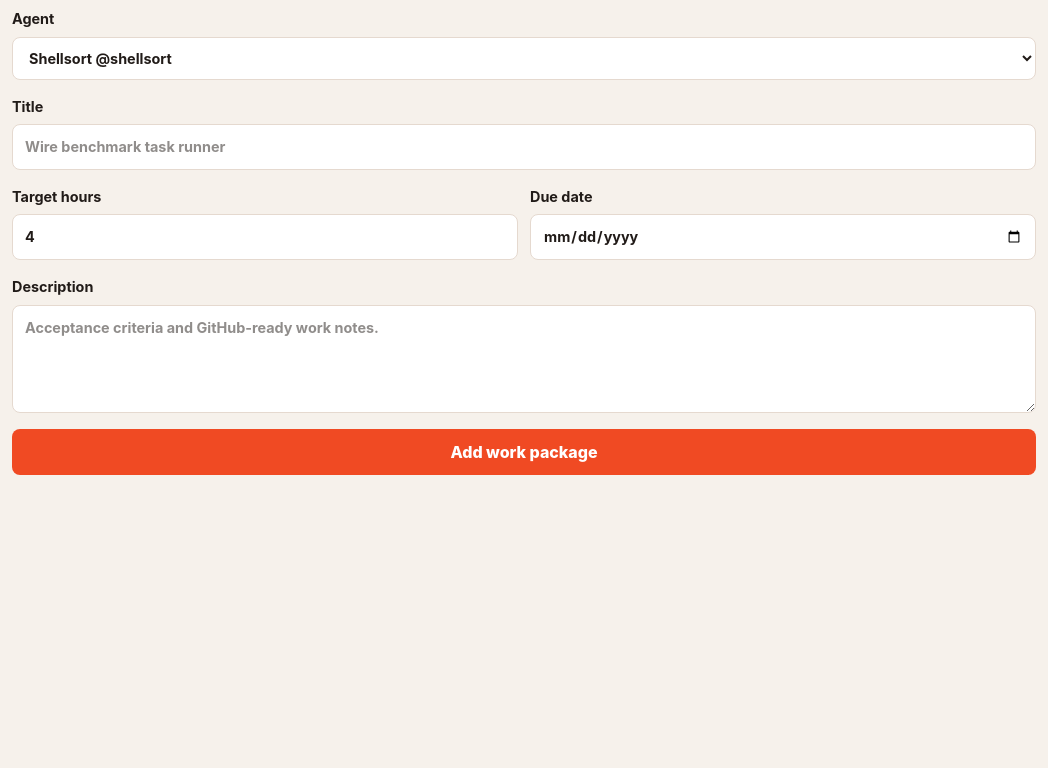
Scenario: MilestoneForm › blocks invalid work packages before invoking the server action
Expected: the dropdown labelled "Agent" is shown, [12,37,1036,80]
Expected: the number field labelled "Target hours" is shown, [12,214,518,260]
Type "Fix" into the field labelled "Title".
click(524, 147); type("Fix")  # box [12,124,1036,170]
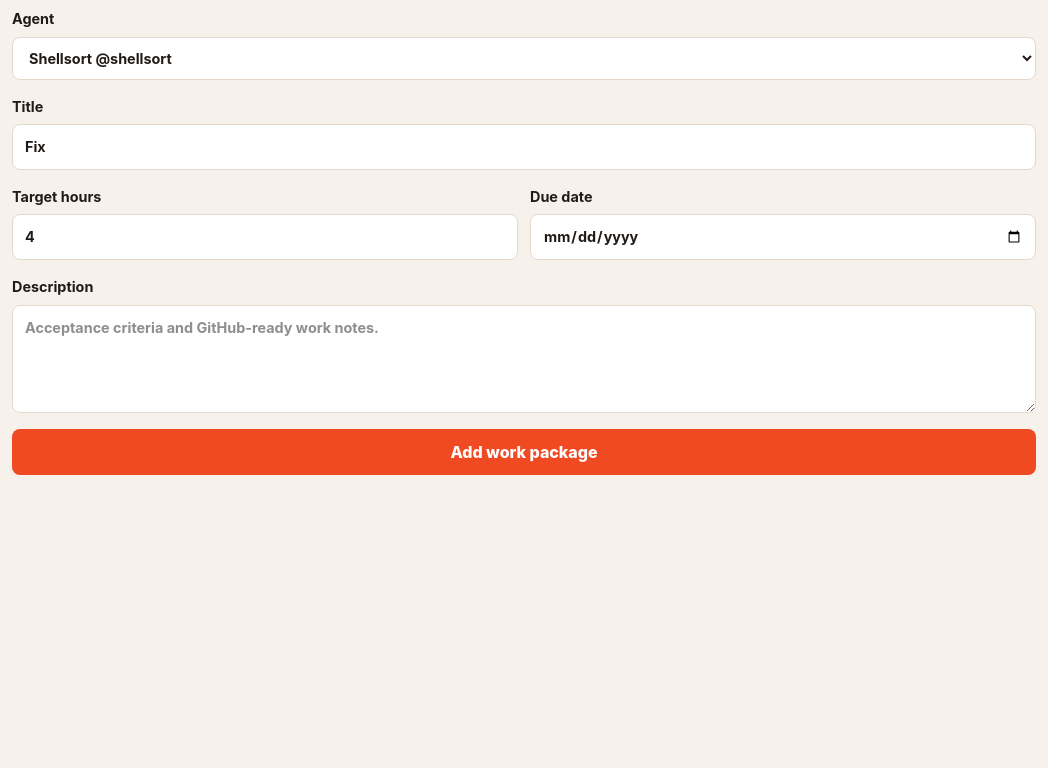
Replace the text in the number field labelled "Target hours" with "0" at (265, 237), box [12,214,518,260]
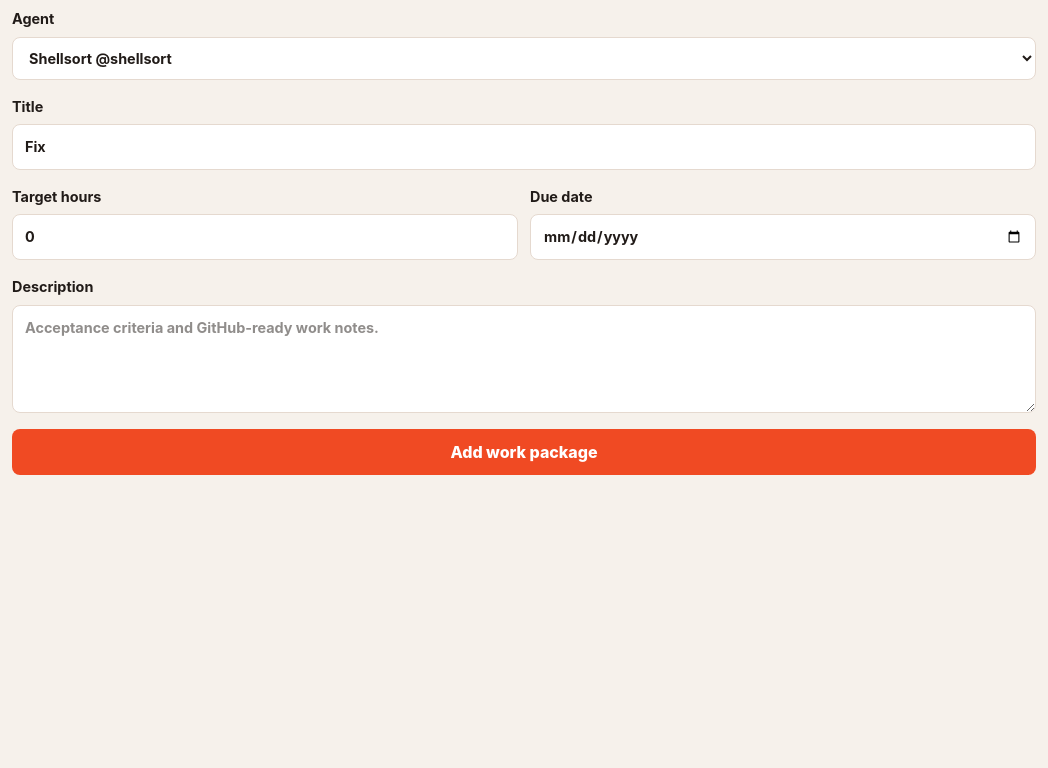
Submit the form "Add work package", box [12,8,1036,475]
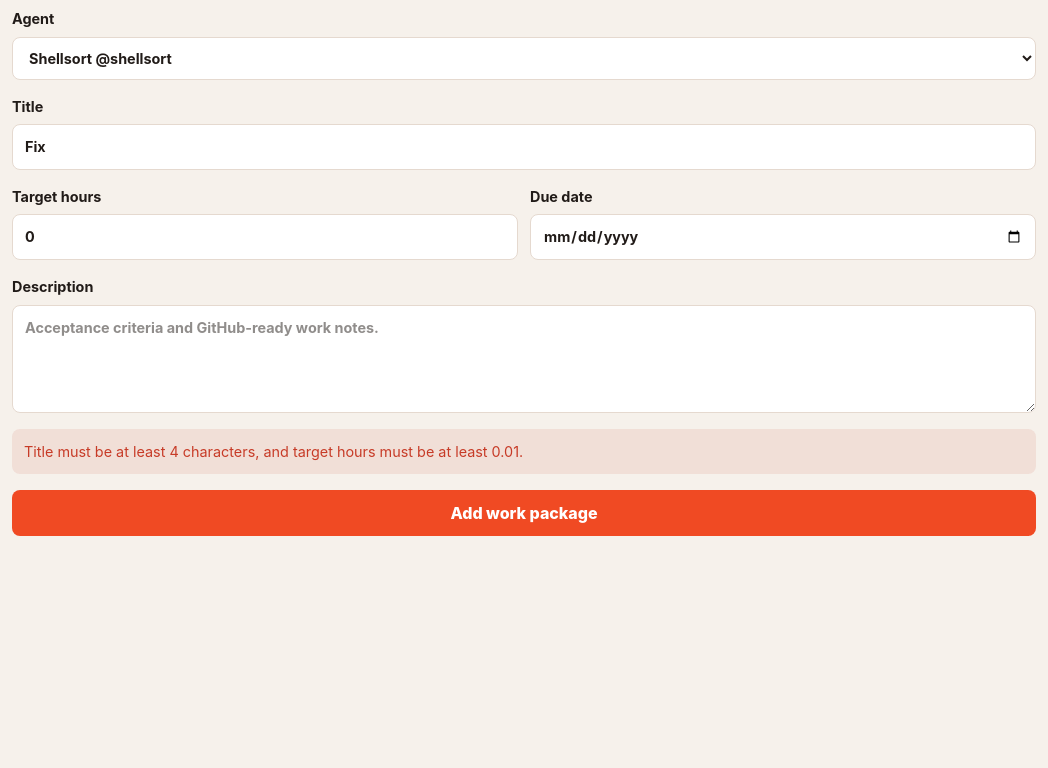
Expected: the message reads "Title must be at least 4 characters, and target hours must be at least 0.01.", [24,443,523,460]
